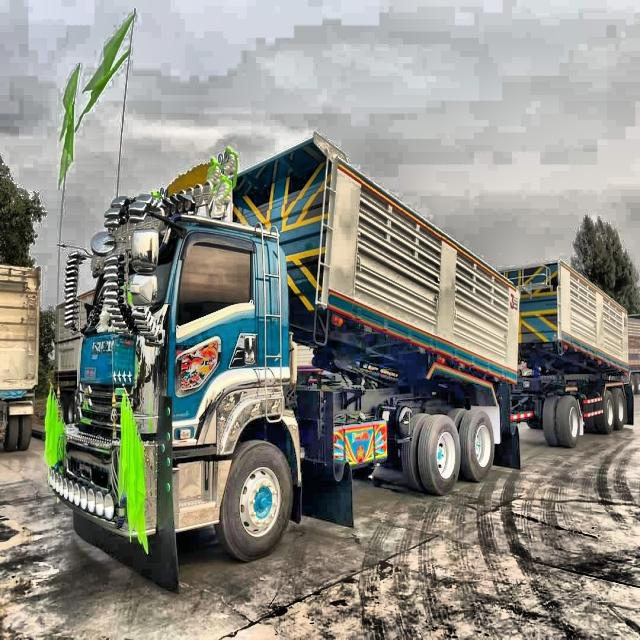trailer: (27, 117, 637, 592)
